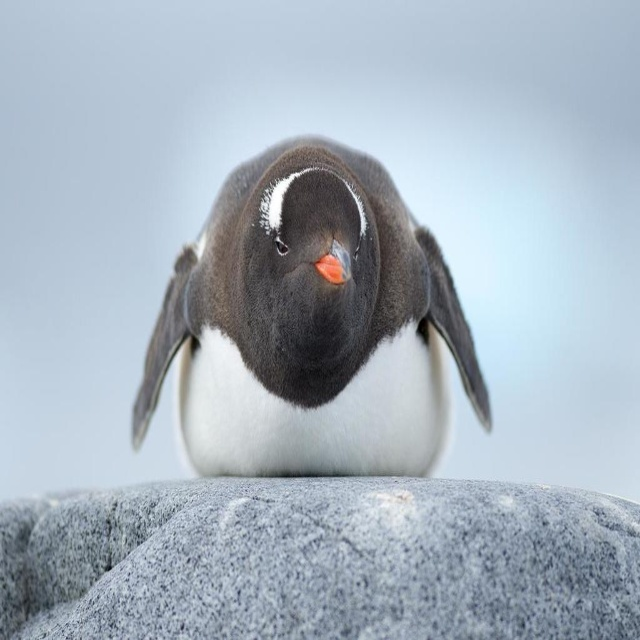Penguin: (120, 139, 497, 477)
